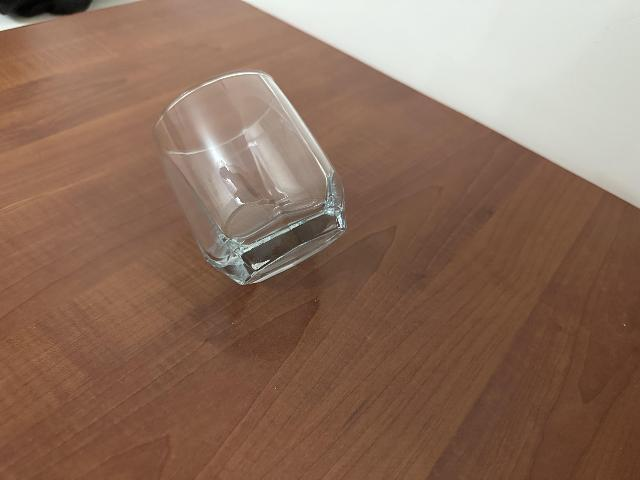Cam: (148, 59, 340, 286)
